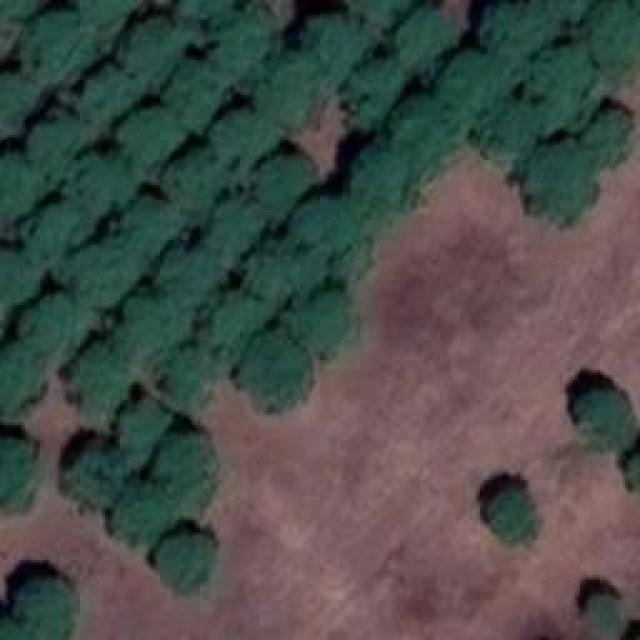Tree: (18, 10, 93, 83), (148, 433, 221, 508), (243, 332, 306, 410), (290, 285, 358, 355), (528, 143, 591, 216), (28, 292, 91, 360), (115, 300, 183, 363), (153, 535, 218, 600), (70, 152, 130, 220), (70, 437, 128, 505), (525, 52, 583, 120), (68, 245, 133, 305), (295, 198, 360, 258), (393, 98, 453, 161), (483, 3, 546, 63), (440, 53, 498, 118), (70, 347, 125, 415), (248, 245, 311, 303), (262, 60, 320, 123), (15, 578, 75, 638), (70, 67, 130, 125), (160, 150, 218, 210), (202, 293, 260, 353), (350, 150, 410, 208), (592, 3, 640, 73), (210, 198, 263, 261), (120, 108, 178, 163), (165, 67, 220, 125), (115, 200, 173, 255), (343, 60, 398, 118), (485, 490, 543, 545), (120, 18, 173, 78), (585, 105, 635, 168), (160, 350, 213, 408), (403, 7, 456, 65), (165, 250, 220, 305), (255, 155, 310, 210), (113, 485, 163, 545), (483, 103, 533, 163), (28, 205, 81, 260), (578, 393, 631, 448), (210, 113, 268, 163), (0, 155, 42, 222), (0, 345, 40, 413), (305, 13, 353, 68), (33, 115, 78, 170), (0, 435, 35, 505), (220, 10, 263, 65), (120, 400, 165, 448), (0, 70, 32, 130), (580, 595, 623, 638), (0, 250, 32, 307), (77, 0, 135, 30), (175, 0, 228, 30), (0, 0, 40, 25), (548, 0, 598, 18), (352, 0, 410, 15)
